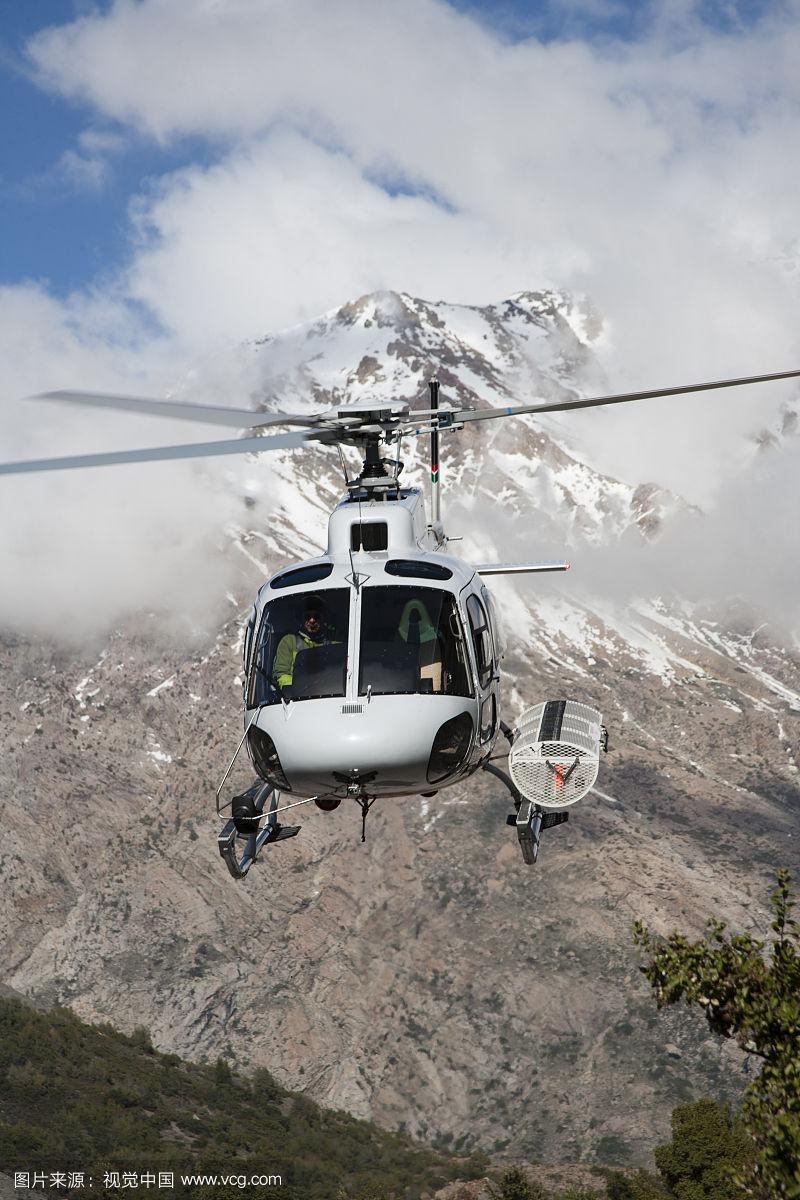airplane: (5, 361, 800, 877)
